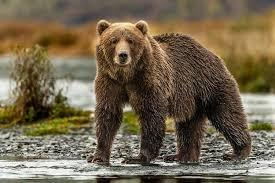bear: (88, 19, 253, 166)
